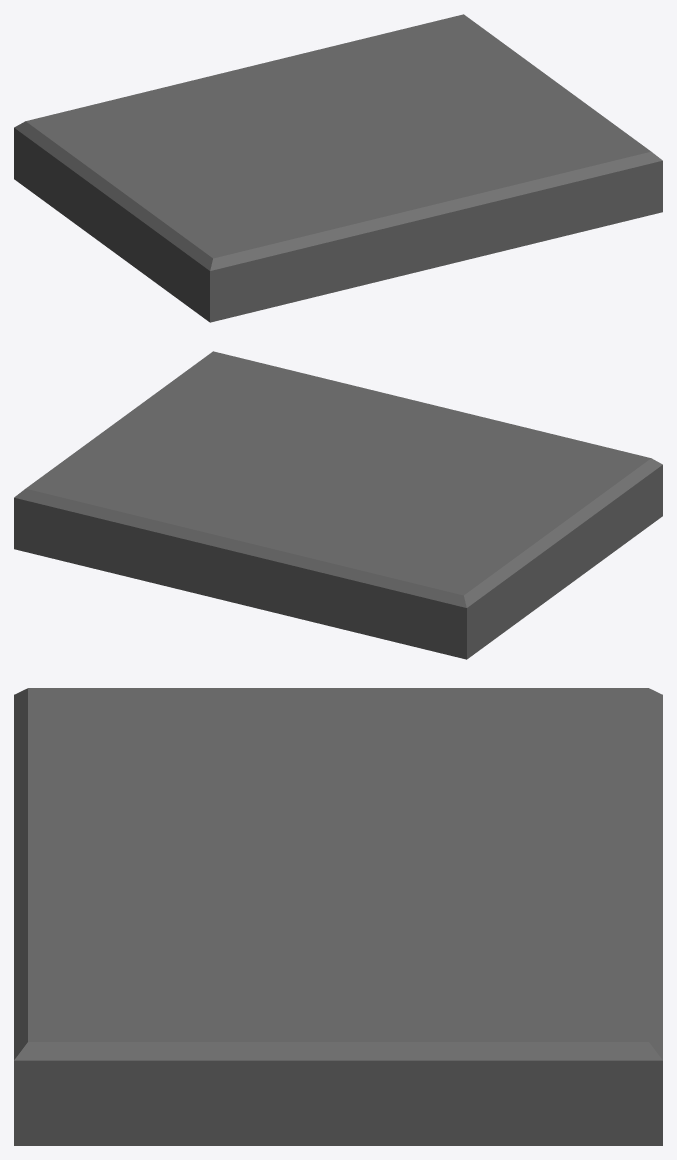
File: Stone_1_7.fbx
3 renders of one model, top to bottom at view 1: azimuth 30°, elevation 25°; view 2: azimuth 150°, elevation 25°; view 3: azimuth 270°, elevation 25°, orthographic. The views are drawn at different scales.
Parts seen in each view (by area): view 1: Stone_1_7; view 2: Stone_1_7; view 3: Stone_1_7.
Boxes of the visible parts, x1=… form: Stone_1_7: x1=14, y1=14, x2=662, y2=322; Stone_1_7: x1=14, y1=351, x2=662, y2=659; Stone_1_7: x1=14, y1=688, x2=662, y2=1145.
Bounding box in the file's own units: 31.5 × 3.94 × 23.62.
